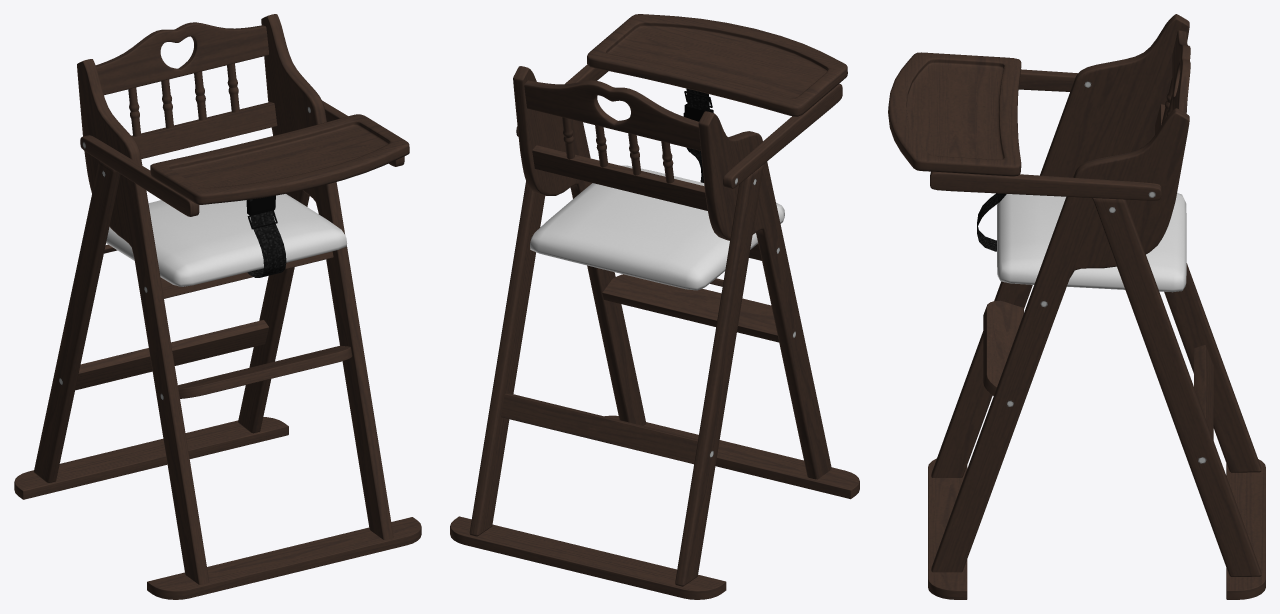
File: MEGA_PACK_kid__kid-677431_Brown.glb
3 views of the same model, side by side, from view 1: azimuth 30°, elevation 25°; view 2: azimuth 150°, elevation 25°; view 3: azimuth 270°, elevation 25° (orthographic). The views are drawn at different scales.
Parts seen in each view (by area): view 1: kid-677431_Brown; view 2: kid-677431_Brown; view 3: kid-677431_Brown.
Boxes of the visible parts, x1,y1,x2,y2 form: kid-677431_Brown: (14,14,421,599); kid-677431_Brown: (450,14,859,599); kid-677431_Brown: (888,14,1265,599).
Size of the model in its own units: 0.52 by 0.8497 by 0.6108.
1 material, 1 textured.
